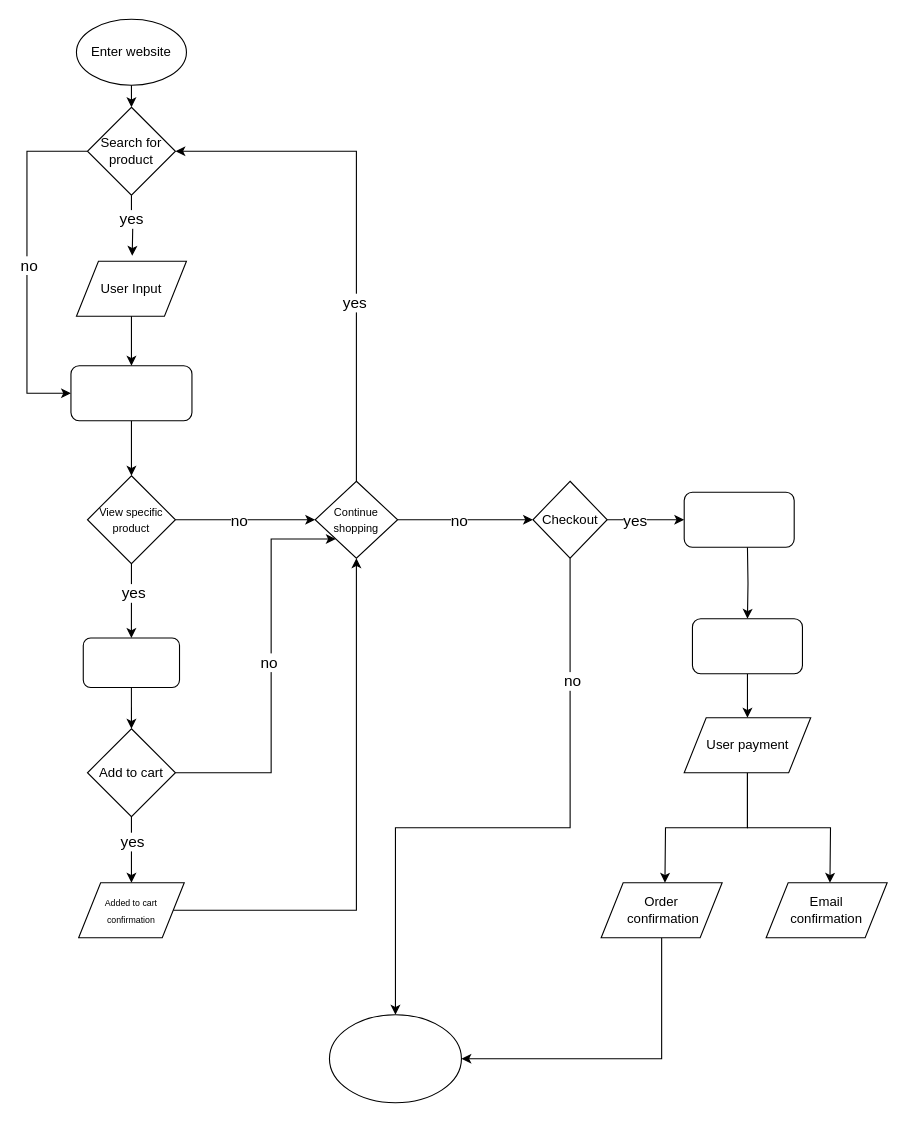
This 906x1122 diagram has some shape labels left out. The shapes that lost their labels are listed below. From the top down, each one's box as (x1, y1, x2, y2) in pixels, then its label:
(70, 365, 192, 421): Look over products
(683, 491, 794, 547): View Cart Screen
(82, 637, 180, 688): Open product's webpage
(691, 618, 802, 674): View Payment screen
(328, 1014, 461, 1103): Leave website
